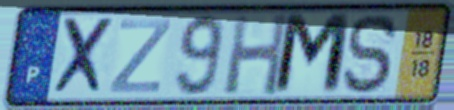9: (172, 12, 226, 100)
H: (222, 11, 292, 99)
M: (270, 11, 355, 99)
S: (340, 12, 402, 97)
X: (49, 16, 117, 98)
Z: (105, 16, 175, 96)
